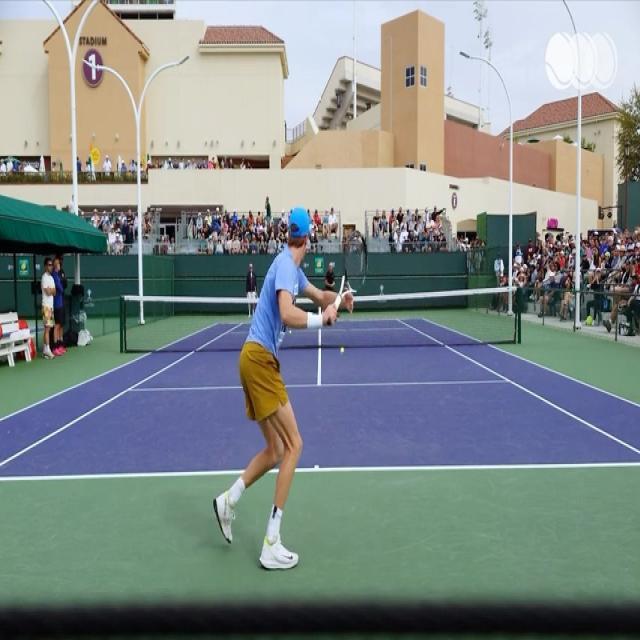forehand-ready: (220, 196, 367, 562)
